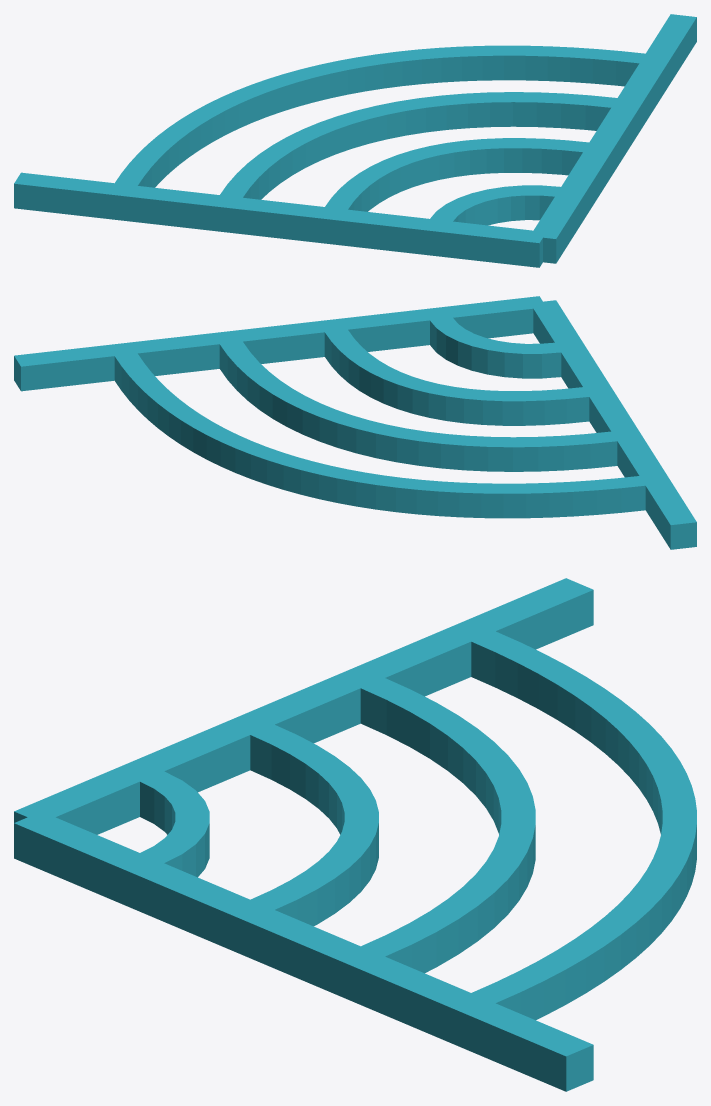
File: Radius.obj
The picture shows the model from 3 angles, top to bottom: view 1: azimuth 30°, elevation 25°; view 2: azimuth 150°, elevation 25°; view 3: azimuth 270°, elevation 25°; orthographic projection. The views are drawn at different scales.
Parts seen in each view (by area): view 1: Cube_Cube.001; view 2: Cube_Cube.001; view 3: Cube_Cube.001.
Part boxes in pixels (x1=…): Cube_Cube.001: x1=14, y1=14, x2=696, y2=267; Cube_Cube.001: x1=14, y1=296, x2=696, y2=549; Cube_Cube.001: x1=14, y1=578, x2=696, y2=1091.
Size of the model in its own units: 7.25 by 0.25 by 4.37.
